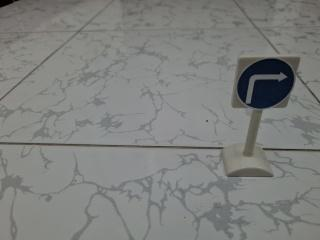right: (226, 43, 305, 117)
